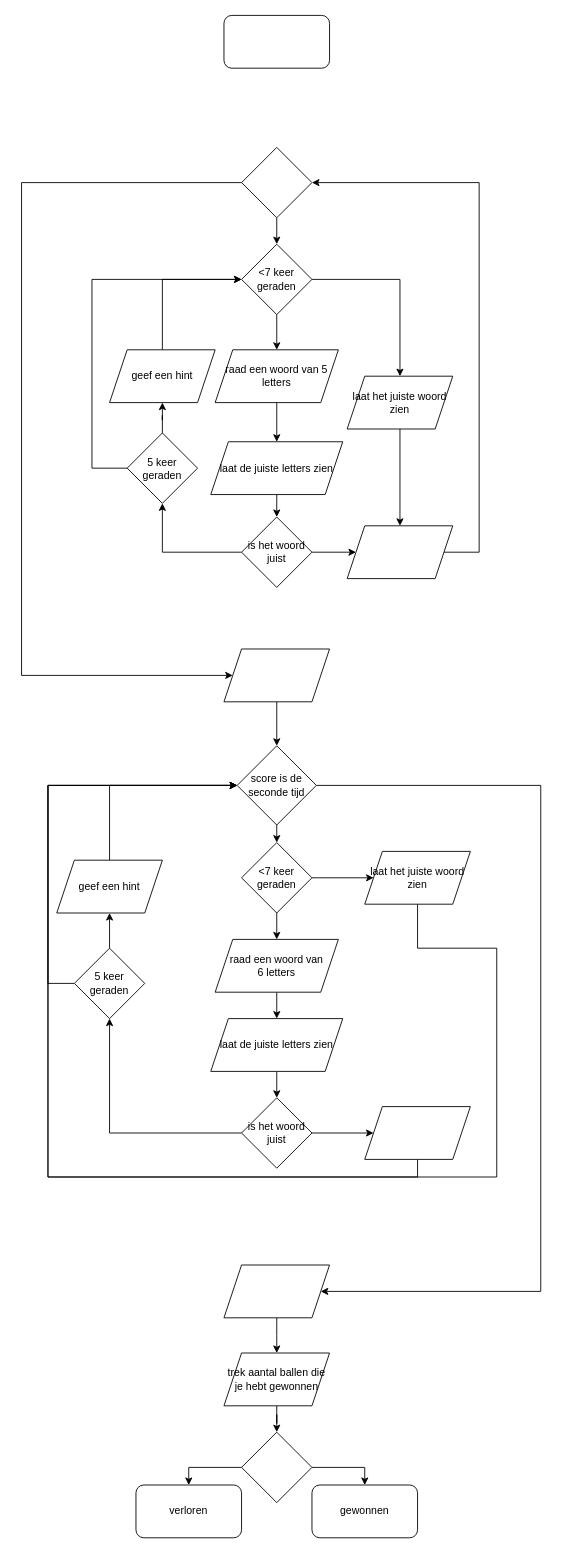
Image size: 563x1553. Some labels were removed from this diagram. The shapes that lost their labels are listed below. From the top down, each one's centre as x and y in pixels, then its label:
the point at 276,41: Start
the point at 276,182: => 5 rondes
the point at 399,552: laat de punten zien
the point at 276,675: finale ronde
the point at 417,1132: 1 bingo bal erbij
the point at 276,1291: genereer bingo kaart
the point at 276,1467: lingo
